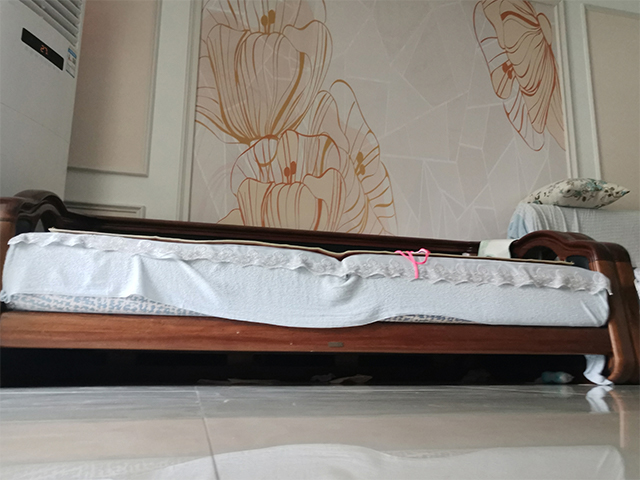sofa: (1, 188, 640, 388)
